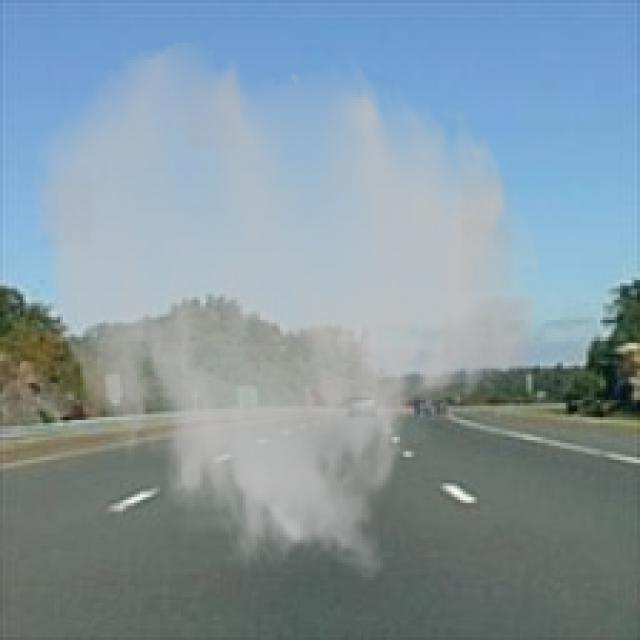Smoke: (26, 37, 546, 583)
